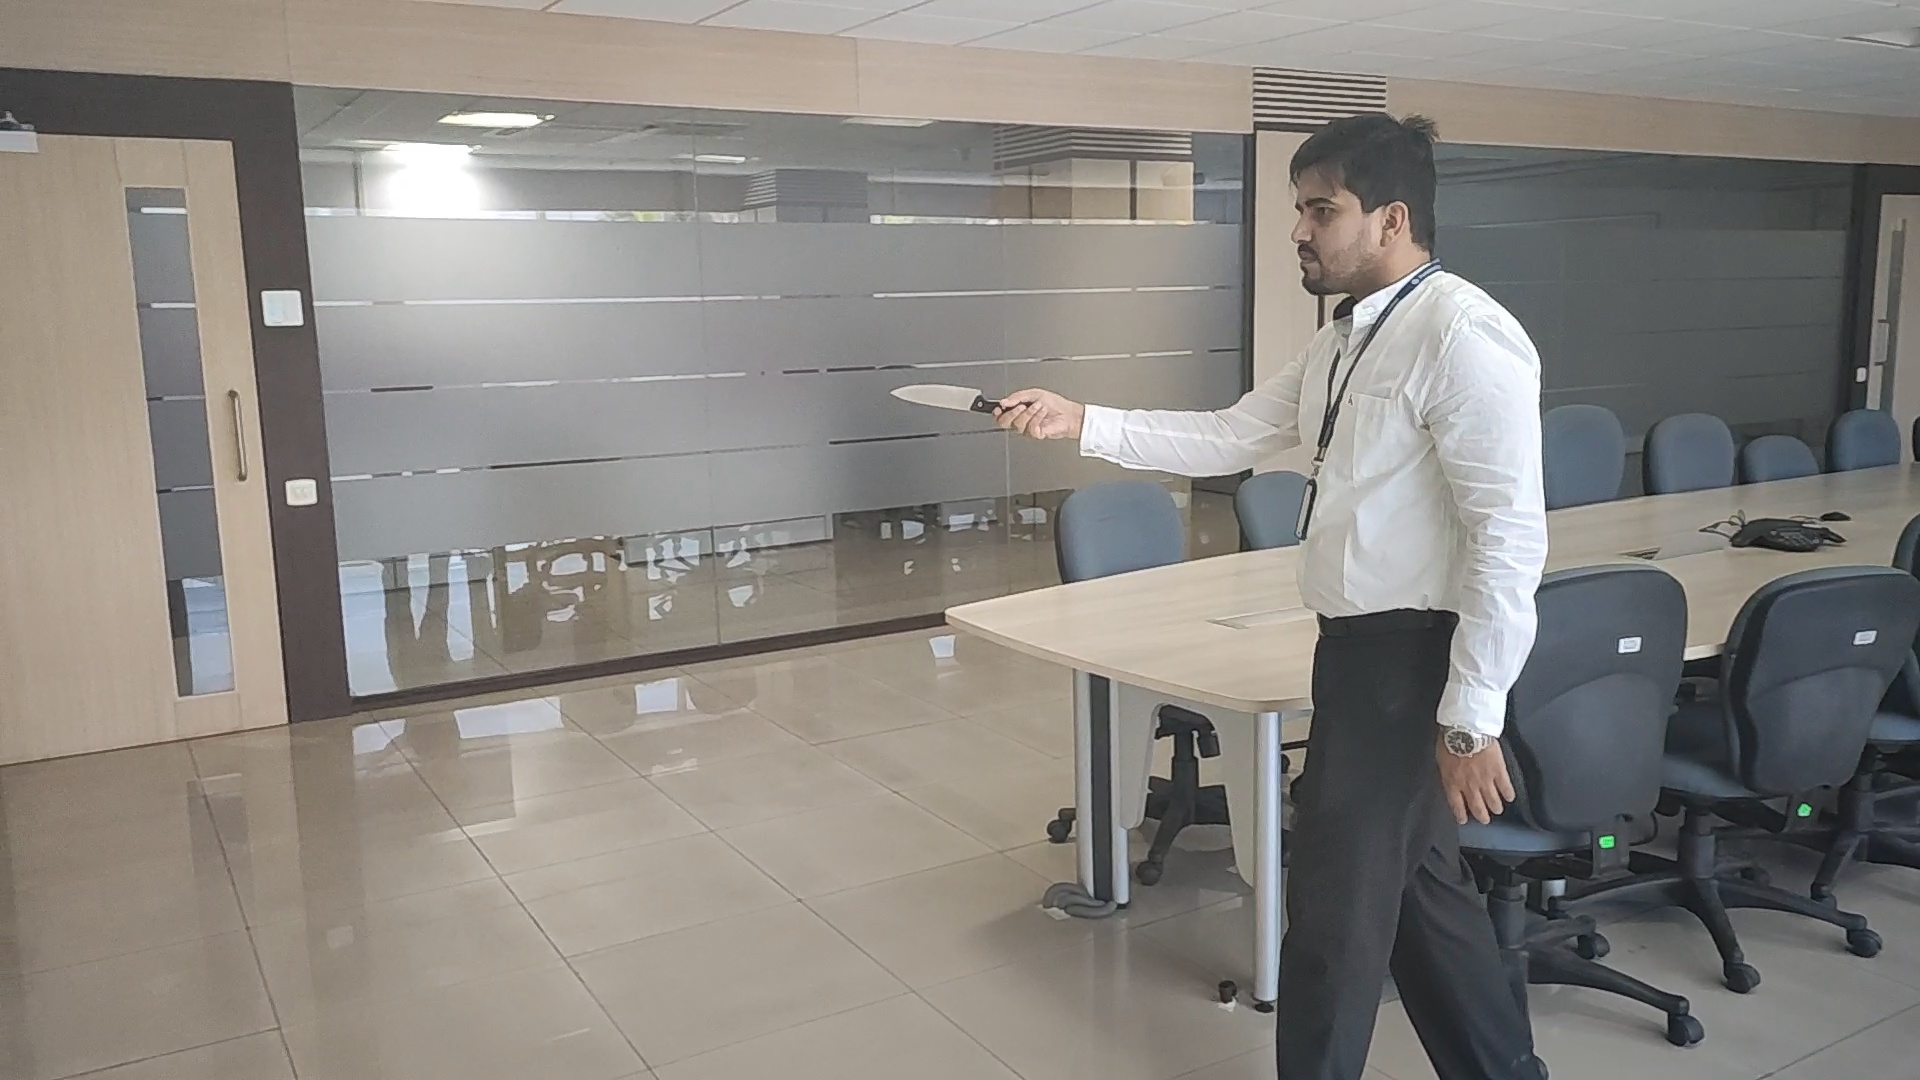knife: (889, 382, 992, 414)
